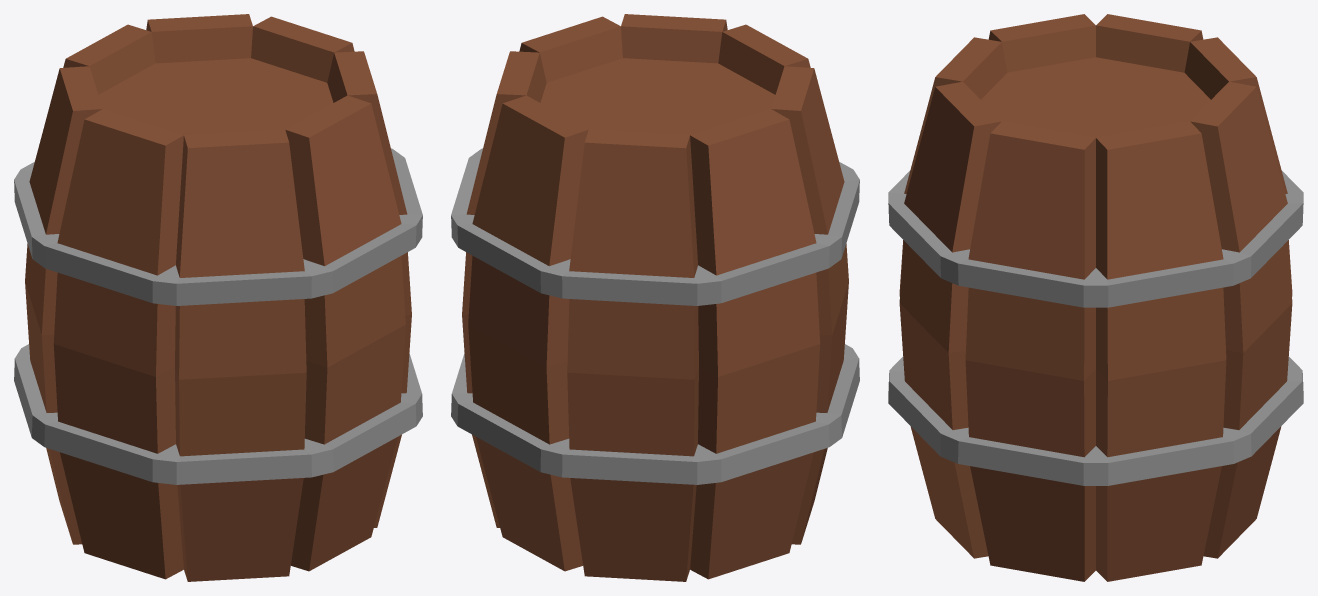
Rendered from Barrel.glb.
3 views of the same model, side by side, from view 1: azimuth 30°, elevation 25°; view 2: azimuth 150°, elevation 25°; view 3: azimuth 270°, elevation 25° (orthographic).
Parts seen in each view (by area): view 1: Barrel; view 2: Barrel; view 3: Barrel.
Boxes of the visible parts, x1,y1,x2,y2 form: Barrel: (14,14,422,581); Barrel: (451,14,859,581); Barrel: (888,14,1303,581).
Bounding box in the file's own units: 1.01 × 1.16 × 1.01.
